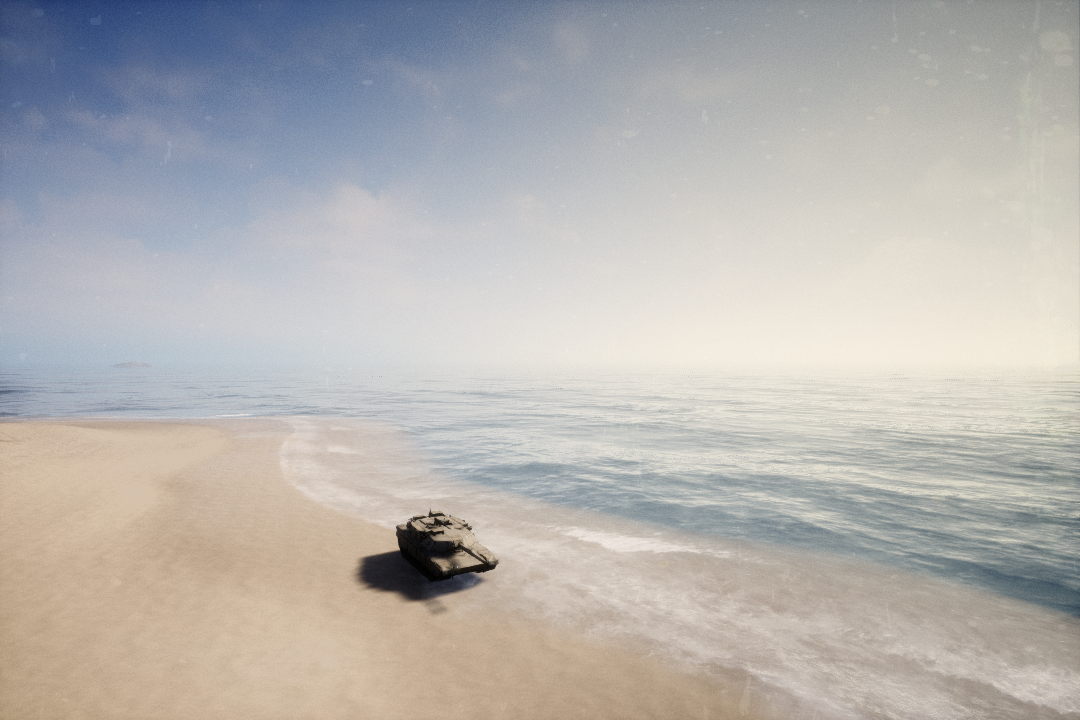tank: (388, 507, 508, 585)
